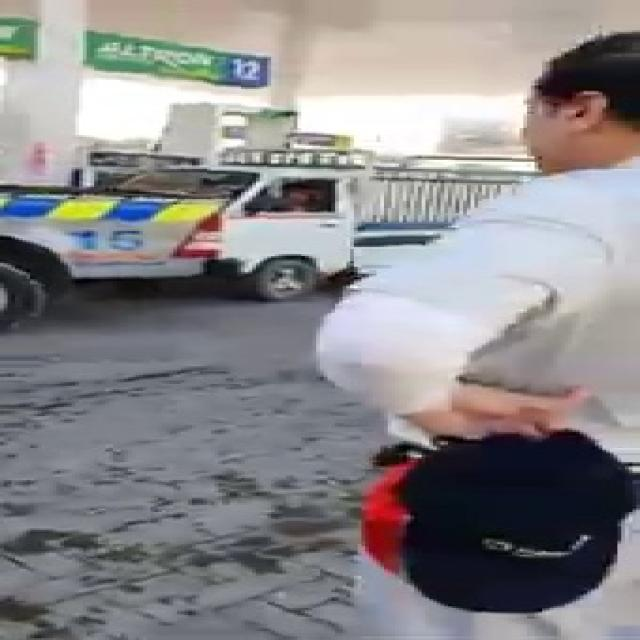police: (0, 186, 238, 340)
